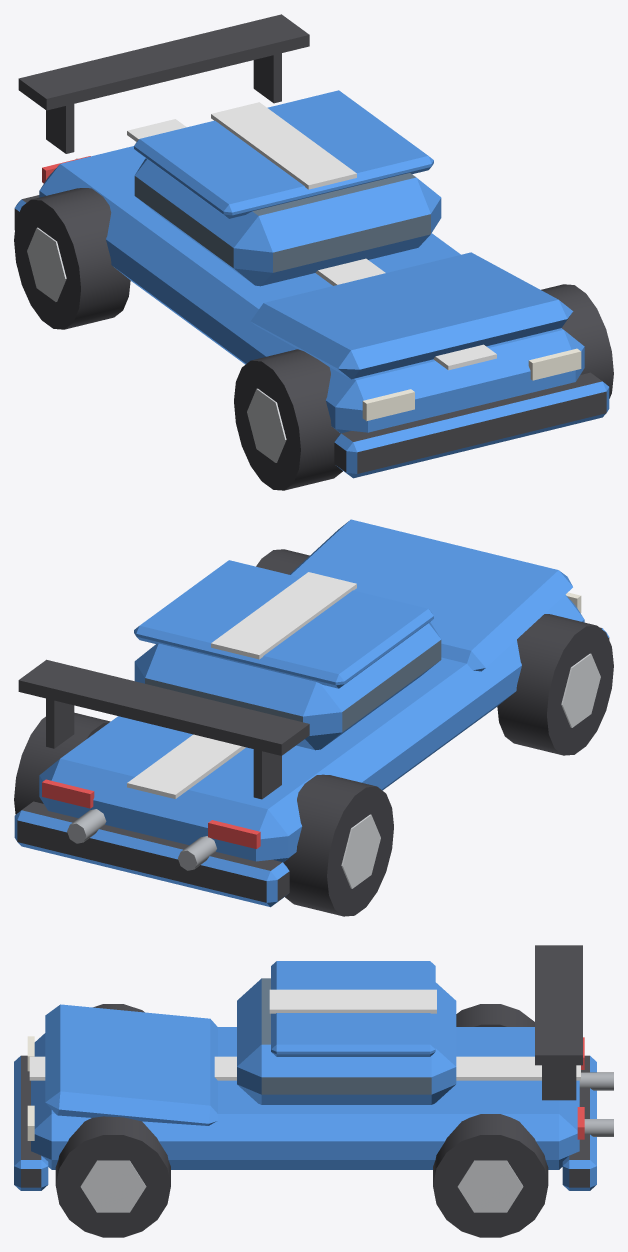
Rendered from rc_car_ai_blue.glb.
3 views of the same model, one above another, from view 1: azimuth 30°, elevation 25°; view 2: azimuth 150°, elevation 25°; view 3: azimuth 270°, elevation 25° (orthographic). The views are drawn at different scales.
Parts seen in each view (by area): view 1: rc_car_ai_blue; view 2: rc_car_ai_blue; view 3: rc_car_ai_blue.
Part boxes in pixels (x1=…): rc_car_ai_blue: x1=14, y1=14, x2=613, y2=490; rc_car_ai_blue: x1=14, y1=519, x2=613, y2=916; rc_car_ai_blue: x1=14, y1=945, x2=613, y2=1237.
Size of the model in its own units: 2.28 by 1.39 by 4.38.
